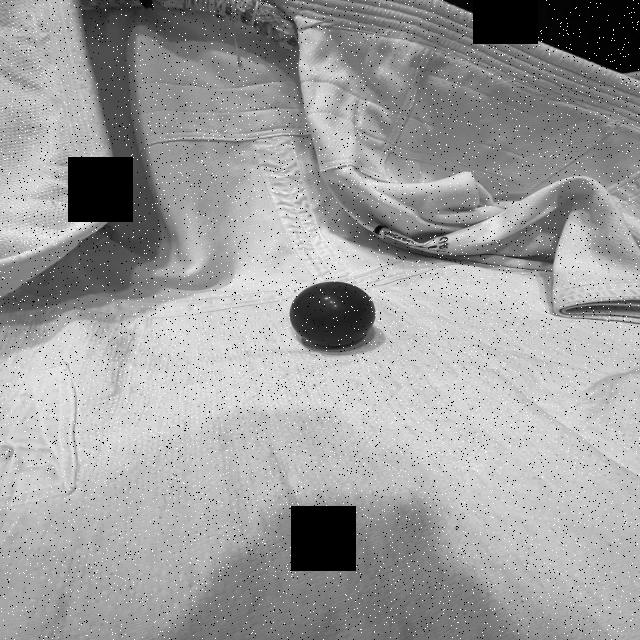ball: (285, 279, 377, 350)
